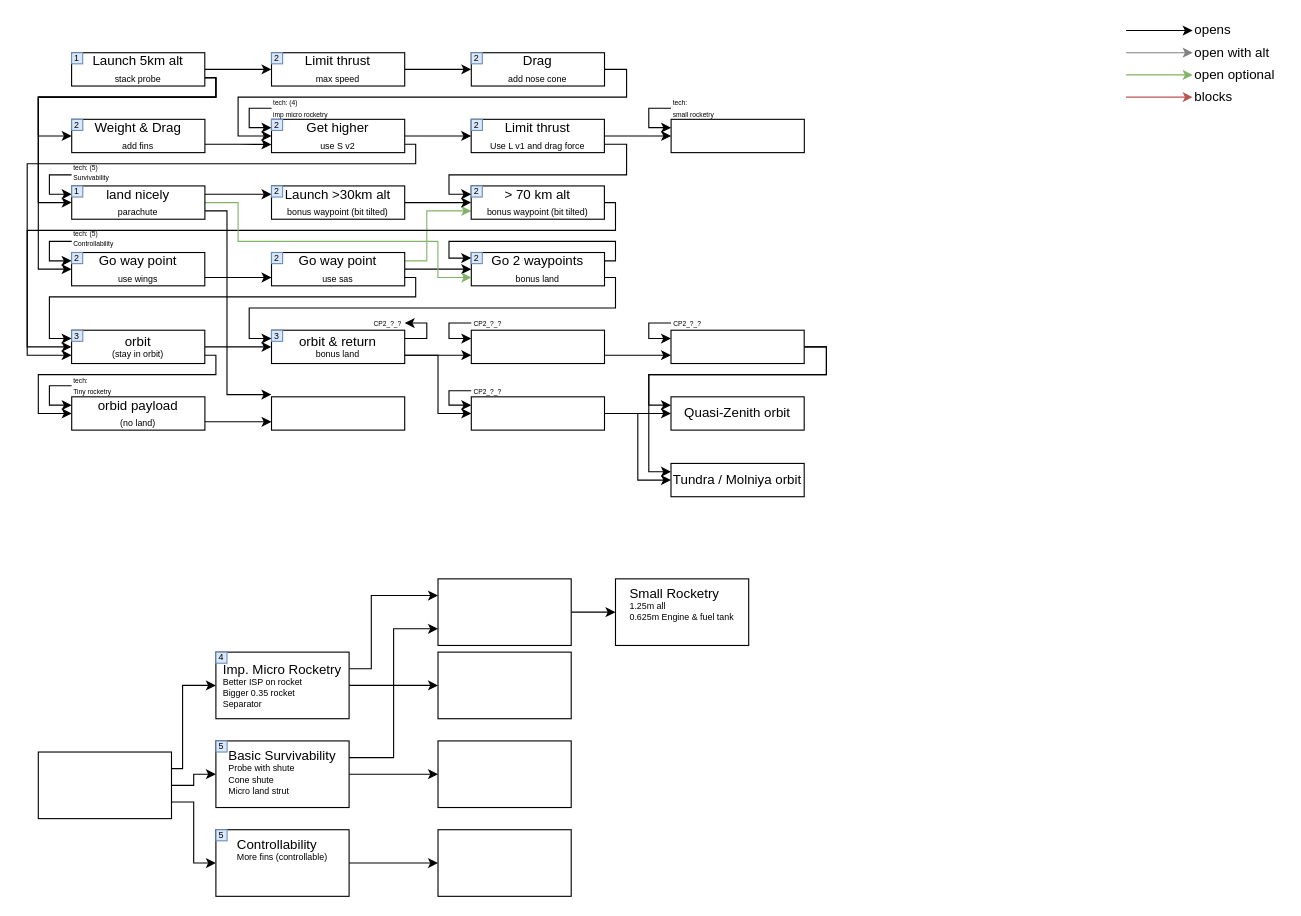
The diagram is 1301 pixels wide and 916 high, and some of its shapes have lost their labels. Here are the shapes that lost their labels. From the top down, the centre of each, then its label:
At point 737,135: "Limit thrust on Engine".
At point 537,346: "orbit 70-80km then orbit 250km".
At point 737,346: "orbit 70-80km then KSO orbit".
At point 337,413: "orbid payload (land nicely)".
At point 537,413: "Polar orbit".
At point 504,611: "Tiny Rocketry 0.625m rockets Separator".
At point 504,685: "Engineering 101 Weight Payload bay Payload strut".
At point 104,785: "Start Inline probe Probe cone Solid rocket Simple fins".
At point 504,774: "Survivability Probe with shute Cone shute Micro land strut".
At point 504,862: "Stability Probe get SAS Inline SAS".
